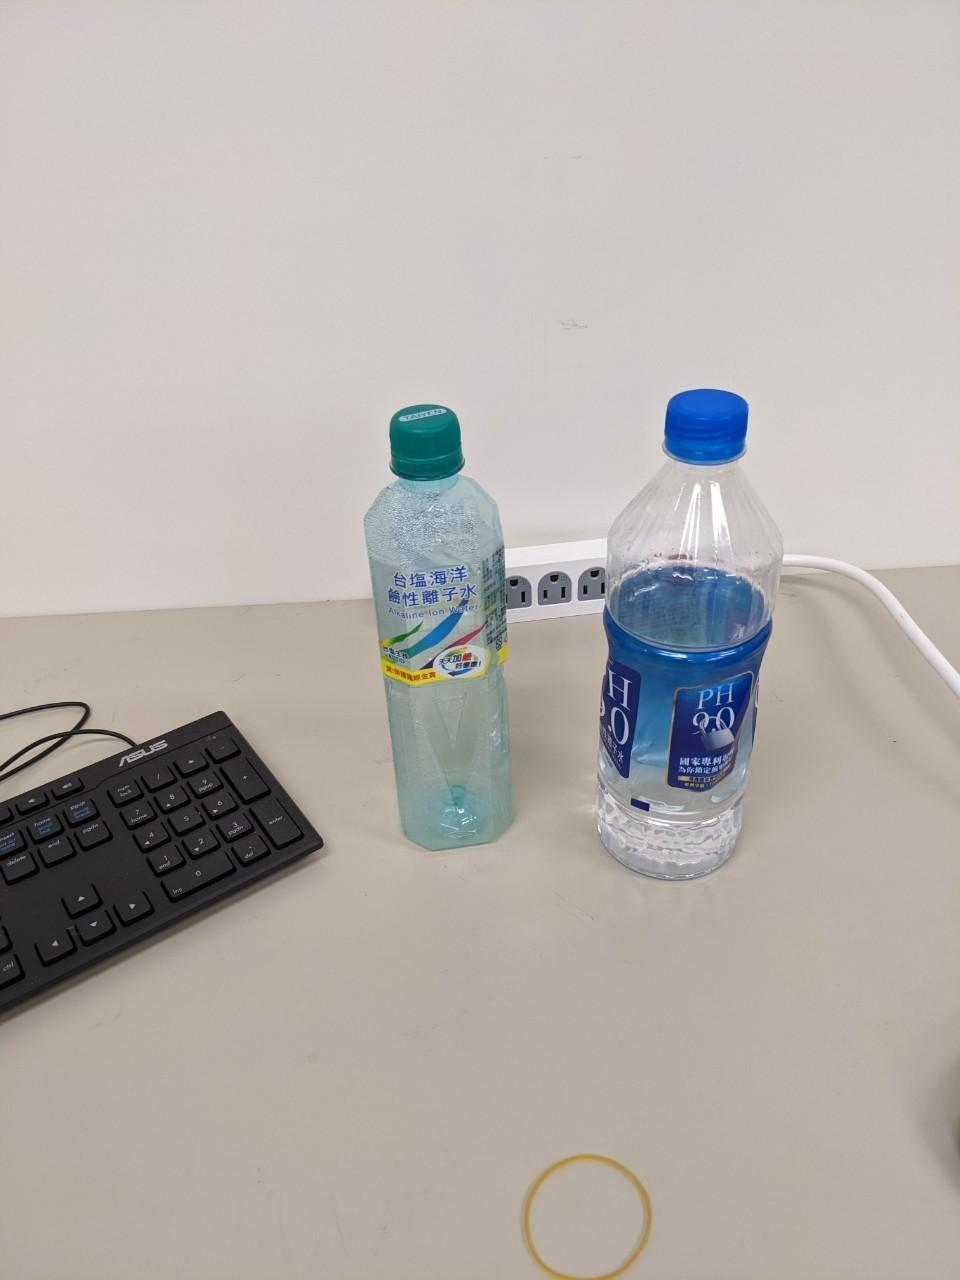BIODEGRADABLE: (590, 377, 788, 891), (345, 395, 522, 849)
